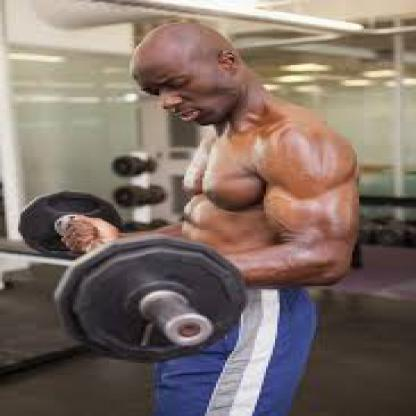Barbell: (46, 232, 254, 368)
